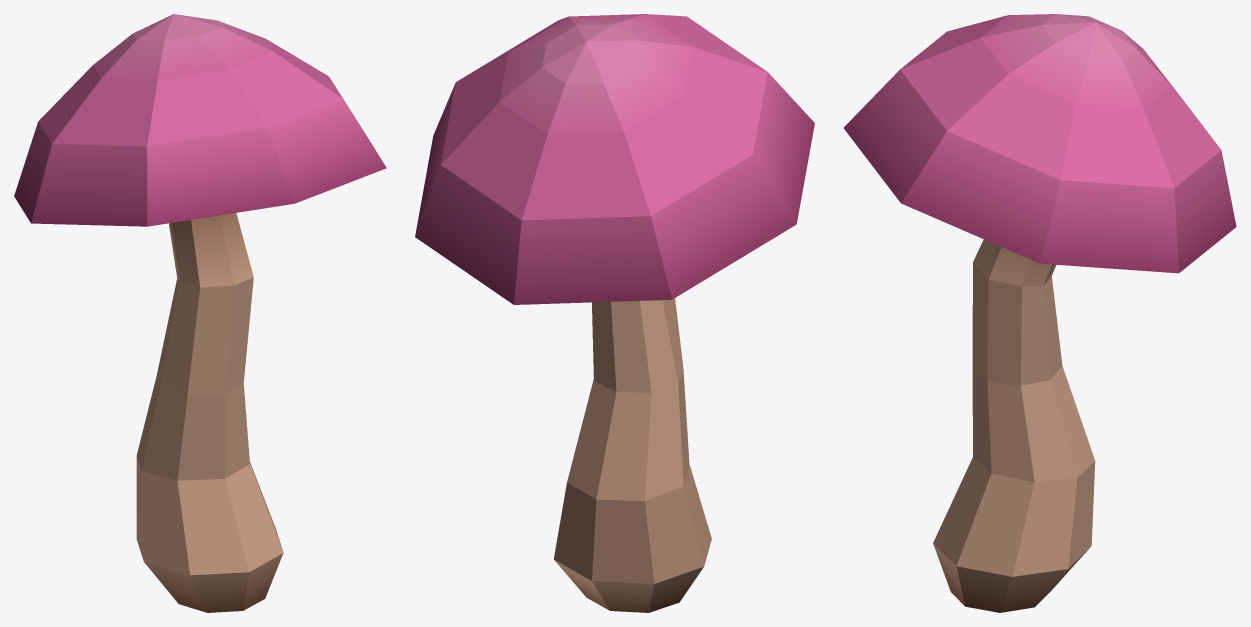
Rendered from Mushroom 2.fbx.
3 renders of one model, left to right at view 1: azimuth 30°, elevation 25°; view 2: azimuth 150°, elevation 25°; view 3: azimuth 270°, elevation 25°, orthographic. The views are drawn at different scales.
Visible parts, largest first — view 1: Mushroom 1; view 2: Mushroom 1; view 3: Mushroom 1.
Boxes of the visible parts, <box> form: Mushroom 1: <box>14,14,386,612</box>; Mushroom 1: <box>415,14,814,612</box>; Mushroom 1: <box>843,14,1236,612</box>.
Bounding box in the file's own units: 123 × 190 × 119.
